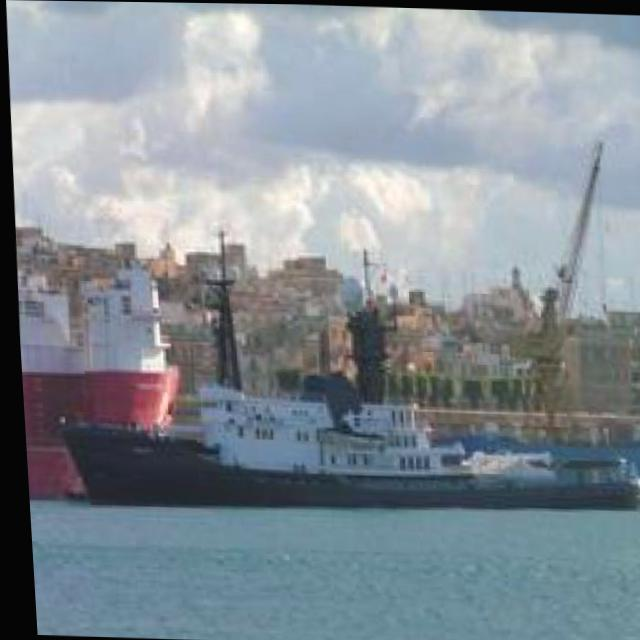ship2: (54, 228, 640, 511)
